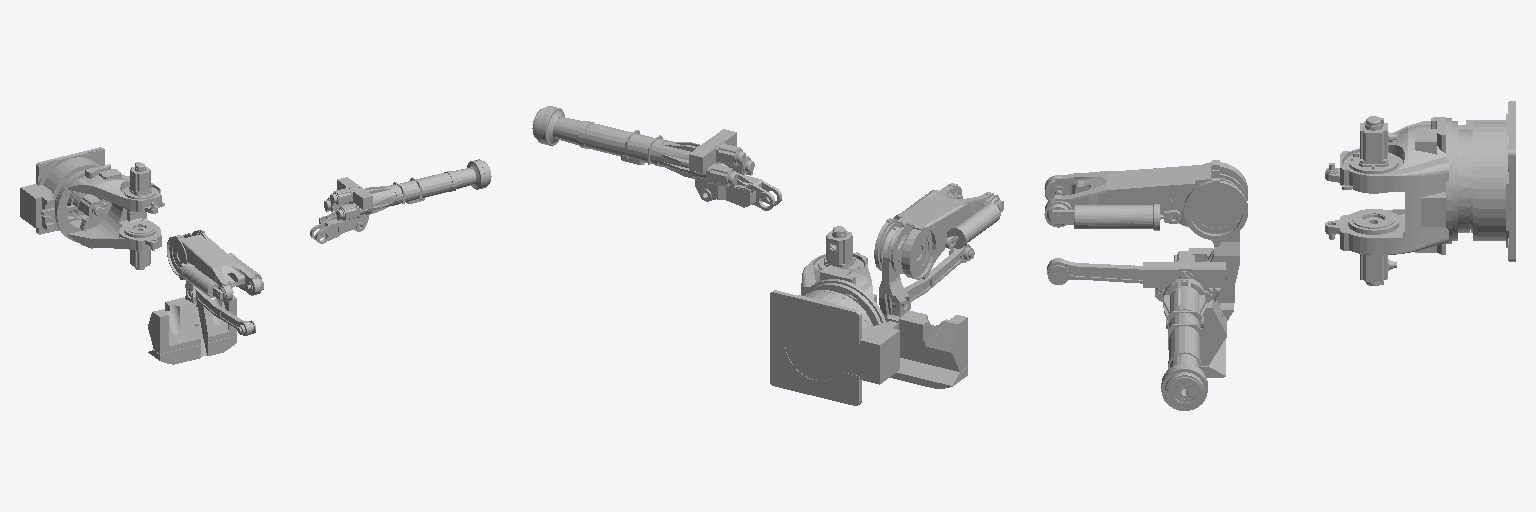
robot.urdf — hx300l:
<robot
  name="hx300l">
  <link
    name="base_link">
    <inertial>
      <origin
        xyz="-0.105707348276965 0.000371347607556677 0.150339172355679"
        rpy="0 0 0" />
      <mass
        value="94.1546039717305" />
      <inertia
        ixx="5.06594305554809"
        ixy="-0.000900726668482331"
        ixz="0.225946188927735"
        iyy="8.68892899153244"
        iyz="-0.00670900712843585"
        izz="11.4266015304124" />
    </inertial>
    <visual>
      <origin
        xyz="0 0 0"
        rpy="0 0 0" />
      <geometry>
        <mesh
          filename="package://hx300l/meshes/base_link.STL" />
      </geometry>
      <material
        name="">
        <color
          rgba="0.752941176470588 0.752941176470588 0.752941176470588 1" />
      </material>
    </visual>
    <collision>
      <origin
        xyz="0 0 0"
        rpy="0 0 0" />
      <geometry>
        <mesh
          filename="package://hx300l/meshes/base_link.STL" />
      </geometry>
    </collision>
  </link>
  <link
    name="link1">
    <inertial>
      <origin
        xyz="0.00012284 0.19489 0.37552"
        rpy="0 0 0" />
      <mass
        value="106.8" />
      <inertia
        ixx="10.481"
        ixy="0.010729"
        ixz="0.0017654"
        iyy="13.354"
        iyz="-2.9039"
        izz="11.103" />
    </inertial>
    <visual>
      <origin
        xyz="0 0 0"
        rpy="0 0 0" />
      <geometry>
        <mesh
          filename="package://hx300l/meshes/link1.STL" />
      </geometry>
      <material
        name="">
        <color
          rgba="0.75294 0.75294 0.75294 1" />
      </material>
    </visual>
    <collision>
      <origin
        xyz="0 0 0"
        rpy="0 0 0" />
      <geometry>
        <mesh
          filename="package://hx300l/meshes/link1.STL" />
      </geometry>
    </collision>
  </link>
  <joint
    name="joint1"
    type="revolute">
    <origin
      xyz="0 -0.312 0"
      rpy="1.5708 1.5708 0" />
    <parent
      link="base_link" />
    <child
      link="link1" />
    <axis
      xyz="0 0 1" />
    <limit effort="30" lower="-2.617" upper="2.617" velocity="1.571"/>
  </joint>
  <link
    name="link2">
    <inertial>
      <origin
        xyz="0.0042845 0.16312 0.54267"
        rpy="0 0 0" />
      <mass
        value="132.25" />
      <inertia
        ixx="31.588"
        ixy="-0.12348"
        ixz="0.31319"
        iyy="27.748"
        iyz="6.4282"
        izz="16.933" />
    </inertial>
    <visual>
      <origin
        xyz="0 0 0"
        rpy="0 0 0" />
      <geometry>
        <mesh
          filename="package://hx300l/meshes/link2.STL" />
      </geometry>
      <material
        name="">
        <color
          rgba="0.75294 0.75294 0.75294 1" />
      </material>
    </visual>
    <collision>
      <origin
        xyz="0 0 0"
        rpy="0 0 0" />
      <geometry>
        <mesh
          filename="package://hx300l/meshes/link2.STL" />
      </geometry>
    </collision>
  </link>
  <joint
    name="joint2"
    type="revolute">
    <origin
      xyz="0 0.3 0.588"
      rpy="1.5708 1.0519E-30 -6.123E-17" />
    <parent
      link="link1" />
    <child
      link="link2" />
    <axis
      xyz="1 0 0" />
    <limit effort="30" lower="-2.617" upper="2.617" velocity="1.571"/>
  </joint>
  <link
    name="link3">
    <inertial>
      <origin
        xyz="0.306186905091814 0.194127068883106 0.00517822933247693"
        rpy="0 0 0" />
      <mass
        value="52.492850757275" />
      <inertia
        ixx="1.02982135626259"
        ixy="-0.26095146442249"
        ixz="0.168340074282727"
        iyy="19.3868465027806"
        iyz="0.0451530041706977"
        izz="19.4286072681113" />
    </inertial>
    <visual>
      <origin
        xyz="0 0 0"
        rpy="0 0 0" />
      <geometry>
        <mesh
          filename="package://hx300l/meshes/link3.STL" />
      </geometry>
      <material
        name="">
        <color
          rgba="0.752941176470588 0.752941176470588 0.752941176470588 1" />
      </material>
    </visual>
    <collision>
      <origin
        xyz="0 0 0"
        rpy="0 0 0" />
      <geometry>
        <mesh
          filename="package://hx300l/meshes/link3.STL" />
      </geometry>
    </collision>
  </link>
  <joint
    name="joint3"
    type="revolute">
    <origin
      xyz="0 1 0"
      rpy="0 1.5708 0" />
    <parent
      link="link2" />
    <child
      link="link3" />
    <axis
      xyz="0 0 1" />
    <limit effort="30" lower="-2.617" upper="2.617" velocity="1.571"/>
  </joint>
  <link
    name="link4">
    <inertial>
      <origin
        xyz="0.0256120606583048 -0.0286074688787966 6.48864477978961E-05"
        rpy="0 0 0" />
      <mass
        value="18.5659141905672" />
      <inertia
        ixx="0.203210425595452"
        ixy="-0.0211993873780701"
        ixz="-0.000258618471678663"
        iyy="0.408799955394829"
        iyz="-2.52480862266329E-05"
        izz="0.492686876337837" />
    </inertial>
    <visual>
      <origin
        xyz="0 0 0"
        rpy="0 0 0" />
      <geometry>
        <mesh
          filename="package://hx300l/meshes/link4.STL" />
      </geometry>
      <material
        name="">
        <color
          rgba="0.752941176470588 0.752941176470588 0.752941176470588 1" />
      </material>
    </visual>
    <collision>
      <origin
        xyz="0 0 0"
        rpy="0 0 0" />
      <geometry>
        <mesh
          filename="package://hx300l/meshes/link4.STL" />
      </geometry>
    </collision>
  </link>
  <joint
    name="joint4"
    type="revolute">
    <origin
      xyz="1.8 0.2 0"
      rpy="-1.5708 0 0" />
    <parent
      link="link3" />
    <child
      link="link4" />
    <axis
      xyz="1 0 0" />
    <limit effort="30" lower="-2.617" upper="2.617" velocity="1.571"/>
  </joint>
</robot>

--- Facts derived from the render (not from the file) ---
Views: 3 orthographic renders of the robot side by side, from view 1: azimuth 30°, elevation 25°; view 2: azimuth 150°, elevation 25°; view 3: azimuth 270°, elevation 25°.
Robot: hx300l — 5 links, 4 joints (4 revolute); root link base_link; default pose: every joint at zero.
Links seen in each view (by area): view 1: link3, link1, link4, base_link; view 2: link3, base_link, link4, link1; view 3: link3, link1, link4, base_link.
Boxes of the visible links, x1,y1,x2,y2 form: link3: (148, 230, 263, 364); link1: (55, 162, 164, 269); link4: (310, 159, 491, 243); base_link: (20, 147, 104, 234); link3: (874, 183, 1003, 388); base_link: (770, 290, 899, 405); link4: (532, 106, 781, 210); link1: (801, 226, 886, 326); link3: (1044, 160, 1247, 377); link1: (1325, 116, 1469, 285); link4: (1143, 251, 1225, 410); base_link: (1458, 101, 1515, 261).
Bounding box of the posed robot: 4.19 × 2.99 × 1.68 m (x, y, z).
4 mesh visuals loaded from 5 distinct referenced files (4 binary STL); not drawn: 1 (reference not matched to a file when rendering).